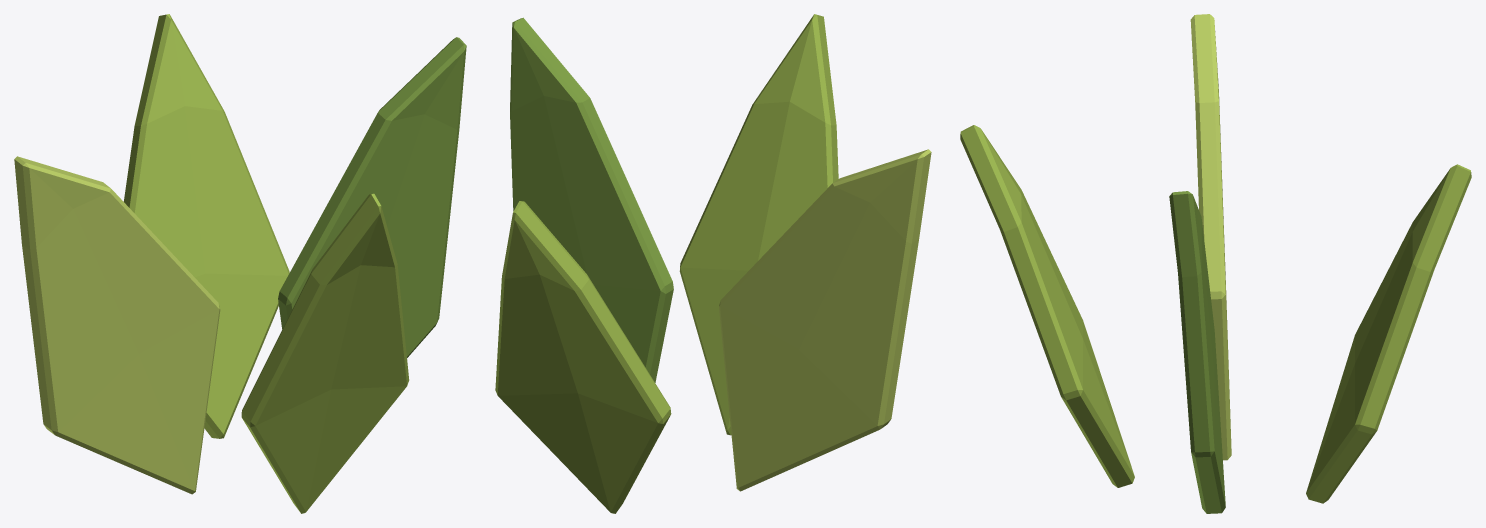
File: Grass_Short.fbx
The picture shows the model from 3 angles, left to right: view 1: azimuth 30°, elevation 25°; view 2: azimuth 150°, elevation 25°; view 3: azimuth 270°, elevation 25°; orthographic projection. The views are drawn at different scales.
Visible parts, largest first — view 1: Short_Broad_Blade_03, Short_Broad_Blade_02, Short_Broad_Blade_04, Short_Broad_Blade_01; view 2: Short_Broad_Blade_03, Short_Broad_Blade_02, Short_Broad_Blade_01, Short_Broad_Blade_04; view 3: Short_Broad_Blade_02, Short_Broad_Blade_04, Short_Broad_Blade_01, Short_Broad_Blade_03.
Boxes of the visible parts, box(x1,y1,x2,y2) form: Short_Broad_Blade_03: box(14, 156, 220, 494); Short_Broad_Blade_02: box(123, 14, 289, 438); Short_Broad_Blade_04: box(241, 193, 409, 513); Short_Broad_Blade_01: box(278, 37, 466, 357); Short_Broad_Blade_03: box(719, 149, 931, 491); Short_Broad_Blade_02: box(495, 201, 671, 513); Short_Broad_Blade_01: box(510, 17, 673, 382); Short_Broad_Blade_04: box(679, 14, 838, 435); Short_Broad_Blade_02: box(1306, 164, 1471, 503); Short_Broad_Blade_04: box(960, 125, 1134, 487); Short_Broad_Blade_01: box(1169, 191, 1225, 513); Short_Broad_Blade_03: box(1190, 14, 1231, 460).
Bounding box in the file's own units: 90.6 × 81.99 × 97.03.
